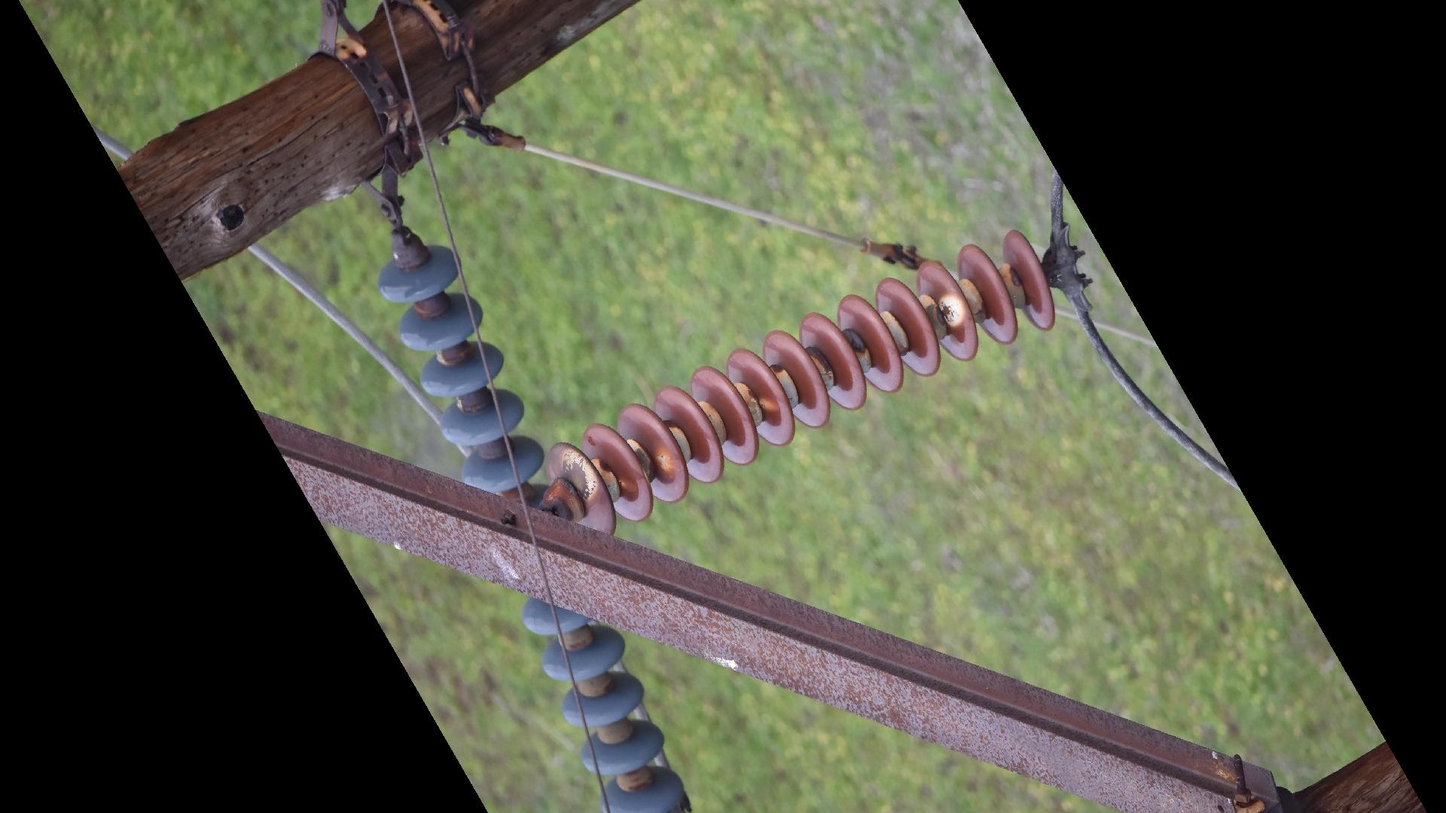insulator: (550, 227, 1060, 538), (371, 236, 549, 497), (518, 594, 694, 813)
insulator_flashover: (558, 446, 602, 504), (937, 291, 969, 330), (652, 449, 682, 476), (758, 394, 783, 415)
